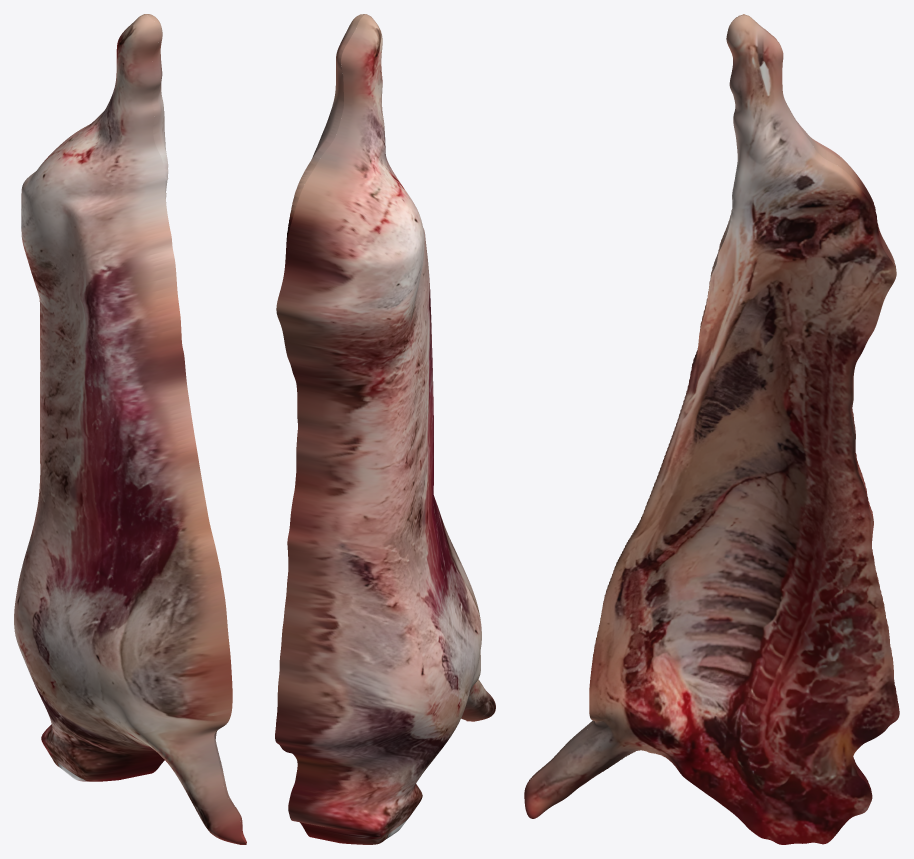
Rendered from demi_carcasse_boeuf_v8.glb.
3 renders of one model, left to right at view 1: azimuth 30°, elevation 25°; view 2: azimuth 150°, elevation 25°; view 3: azimuth 270°, elevation 25°, orthographic. The views are drawn at different scales.
Visible parts, largest first — view 1: face_exterieure, face_de_fente; view 2: face_exterieure, face_de_fente; view 3: face_de_fente, face_exterieure.
Part boxes in pixels (x1=…): face_exterieure: x1=14, y1=14, x2=246, y2=844; face_de_fente: x1=145, y1=14, x2=246, y2=843; face_exterieure: x1=275, y1=14, x2=495, y2=844; face_de_fente: x1=286, y1=14, x2=466, y2=720; face_de_fente: x1=524, y1=16, x2=899, y2=844; face_exterieure: x1=526, y1=14, x2=899, y2=793.
Bounding box in the file's own units: 0.4228 × 2.5 × 1.03.
2 materials, 2 textured.
